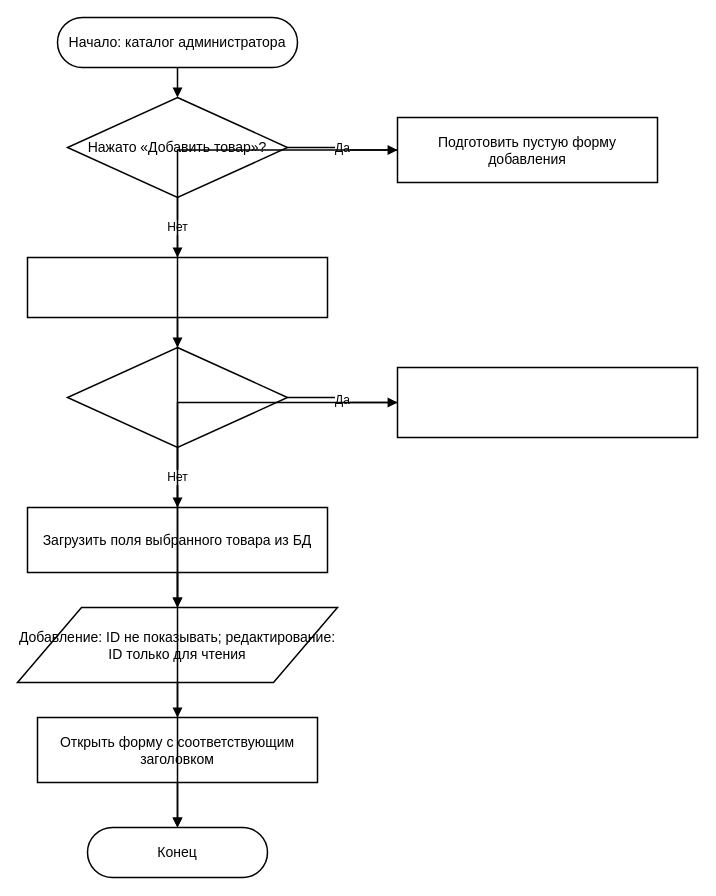
Image size: 716x896. Some labels were removed from this diagram. The box of each missing label's shape, as (x1, y1, x2, y2) in pixels:
Выбрать существующий товар: (26, 256, 328, 318)
Показать сообщение: сначала закройте открытую форму: (396, 366, 698, 438)
Форма редактирования уже открыта?: (66, 346, 288, 448)
